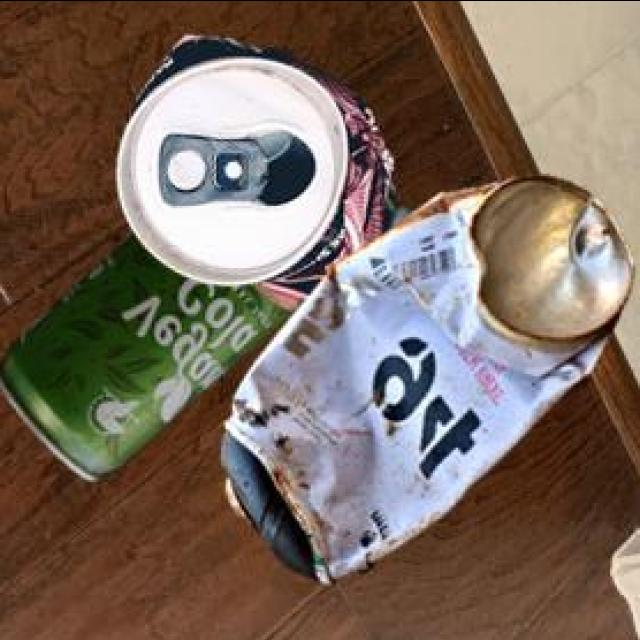logam: (224, 178, 637, 586), (0, 181, 402, 485), (121, 38, 418, 312)
